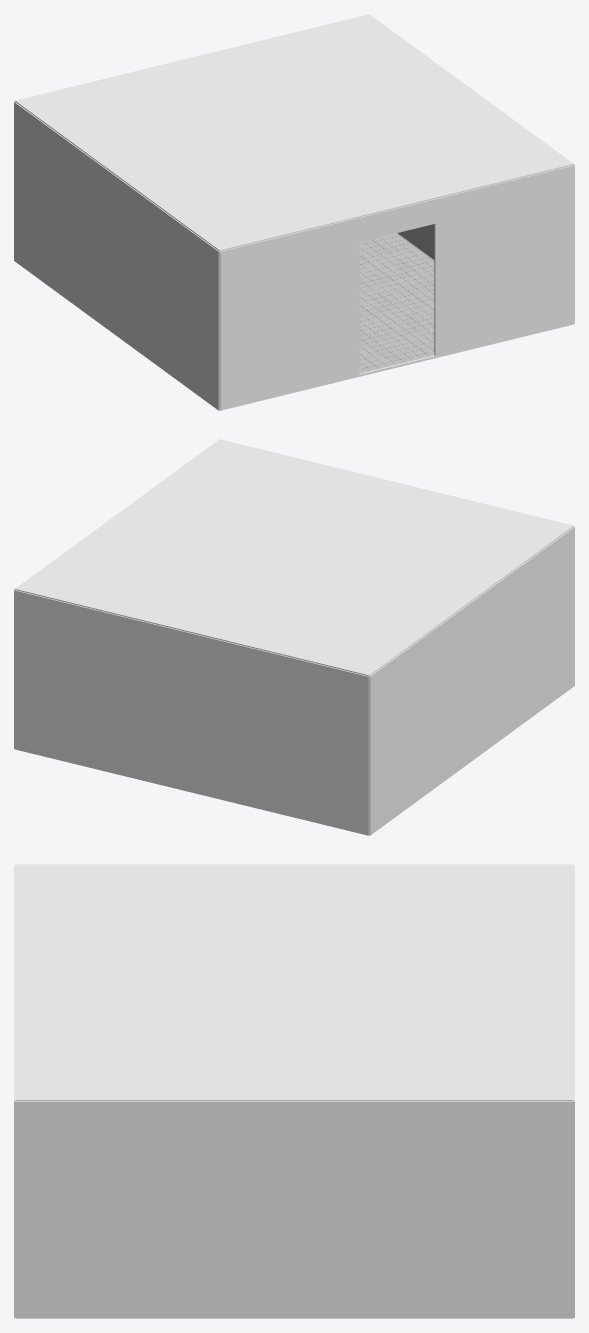
Rendered from WCGeneric.fbx.
3 views of the same model, one above another, from view 1: azimuth 30°, elevation 25°; view 2: azimuth 150°, elevation 25°; view 3: azimuth 270°, elevation 25° (orthographic). The views are drawn at different scales.
Visible parts, largest first — view 1: node_id49, node_id52, node_id61, node_id64, node_id115; view 2: node_id49, node_id55, node_id61; view 3: node_id49, node_id58, node_id52, node_id55.
Boxes of the visible parts, x1=… form: node_id49: x1=15, y1=14, x2=573, y2=251; node_id52: x1=219, y1=165, x2=574, y2=410; node_id61: x1=14, y1=101, x2=219, y2=410; node_id64: x1=359, y1=233, x2=434, y2=373; node_id115: x1=398, y1=224, x2=434, y2=259; node_id49: x1=15, y1=439, x2=573, y2=676; node_id55: x1=14, y1=590, x2=369, y2=835; node_id61: x1=369, y1=526, x2=574, y2=835; node_id49: x1=15, y1=864, x2=573, y2=1101; node_id58: x1=15, y1=1101, x2=573, y2=1318; node_id52: x1=14, y1=865, x2=15, y2=1317; node_id55: x1=573, y1=865, x2=574, y2=1317.
Bounding box in the file's own units: 0.512 × 0.2196 × 0.512.
Materials: 111 (45 with a texture image).
